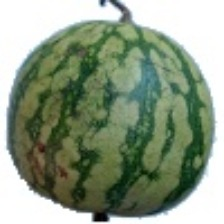watermelon: (35, 4, 221, 203)
